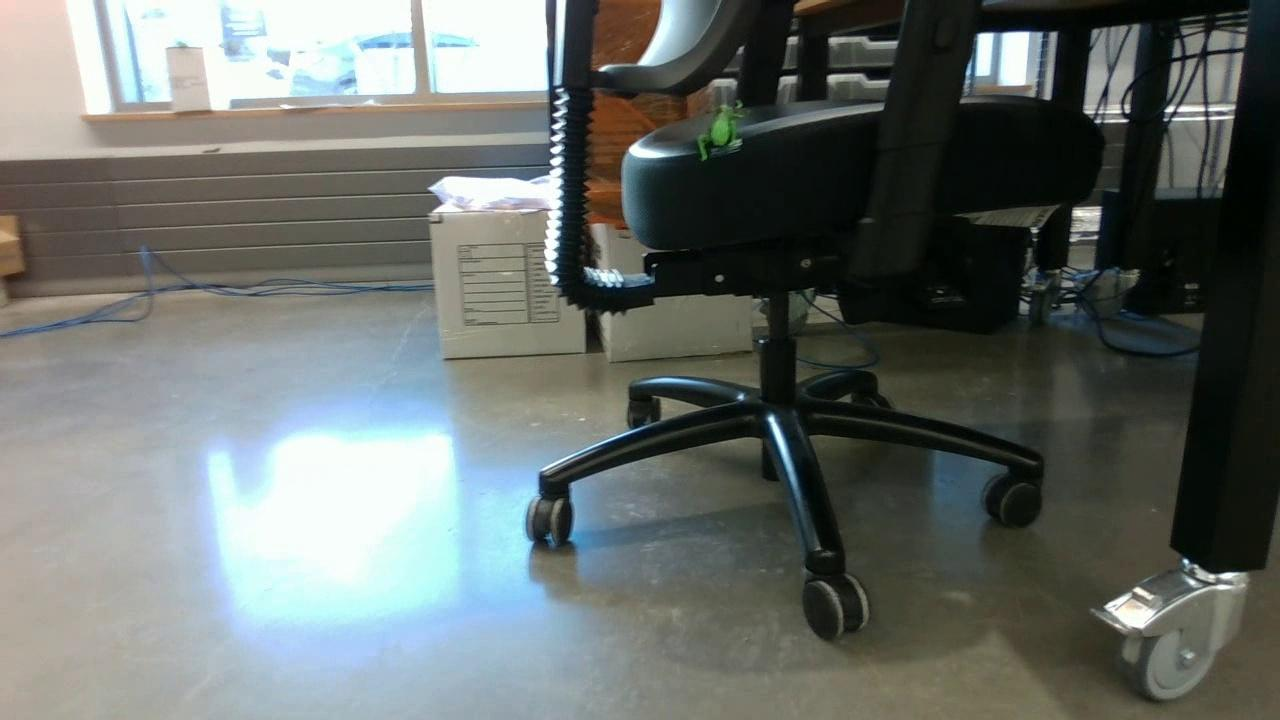grasshopper: (698, 105, 743, 160)
